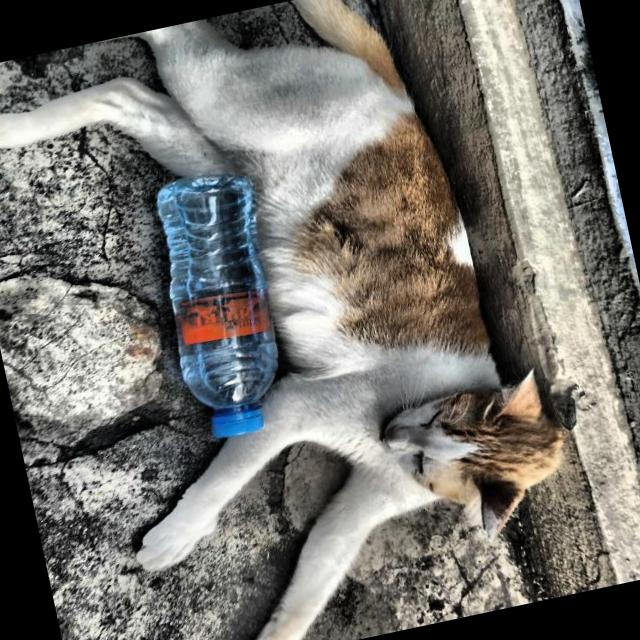Healthy skin: (270, 113, 450, 325), (367, 378, 560, 561)
